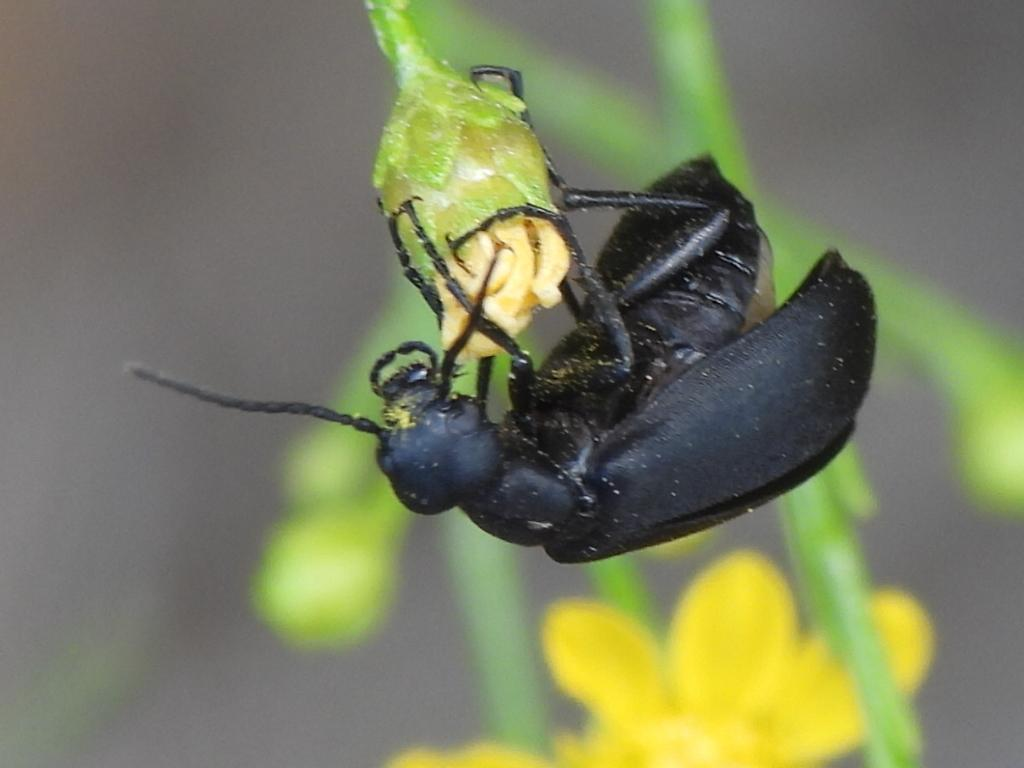blister_beetle: (86, 17, 931, 666)
